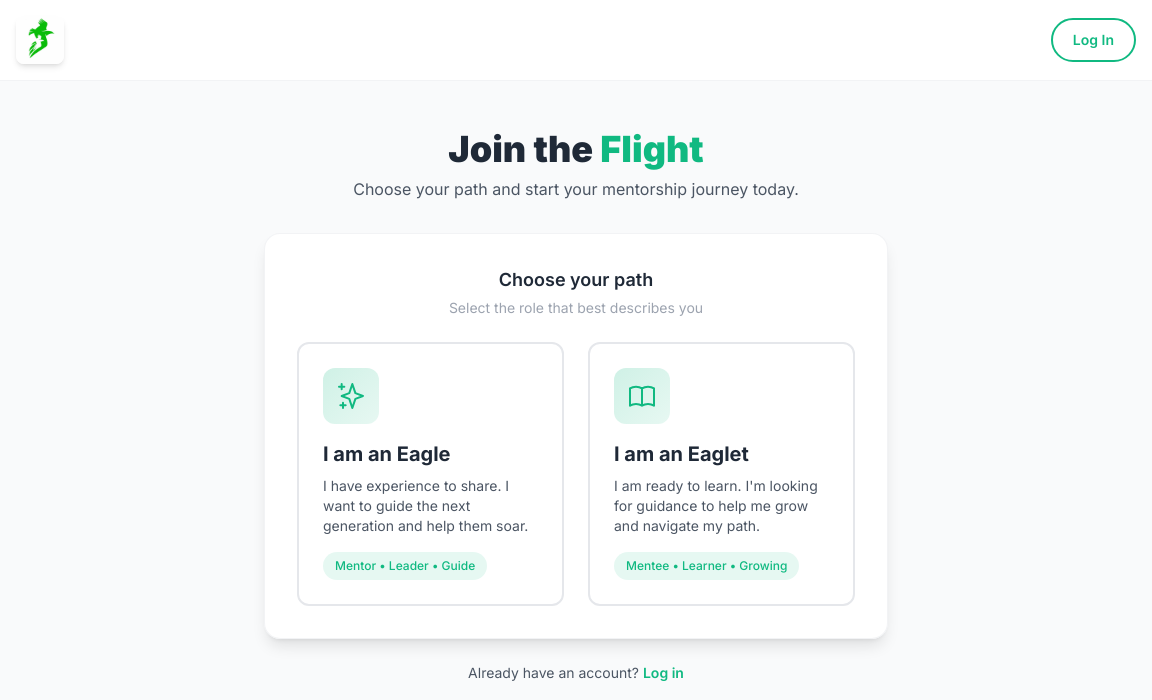
Test: RegisterPage › shows inline validation error on invalid email blur
Step 1. Click the heading "I am an Eaglet" → (681, 454), box [614,440,749,468]
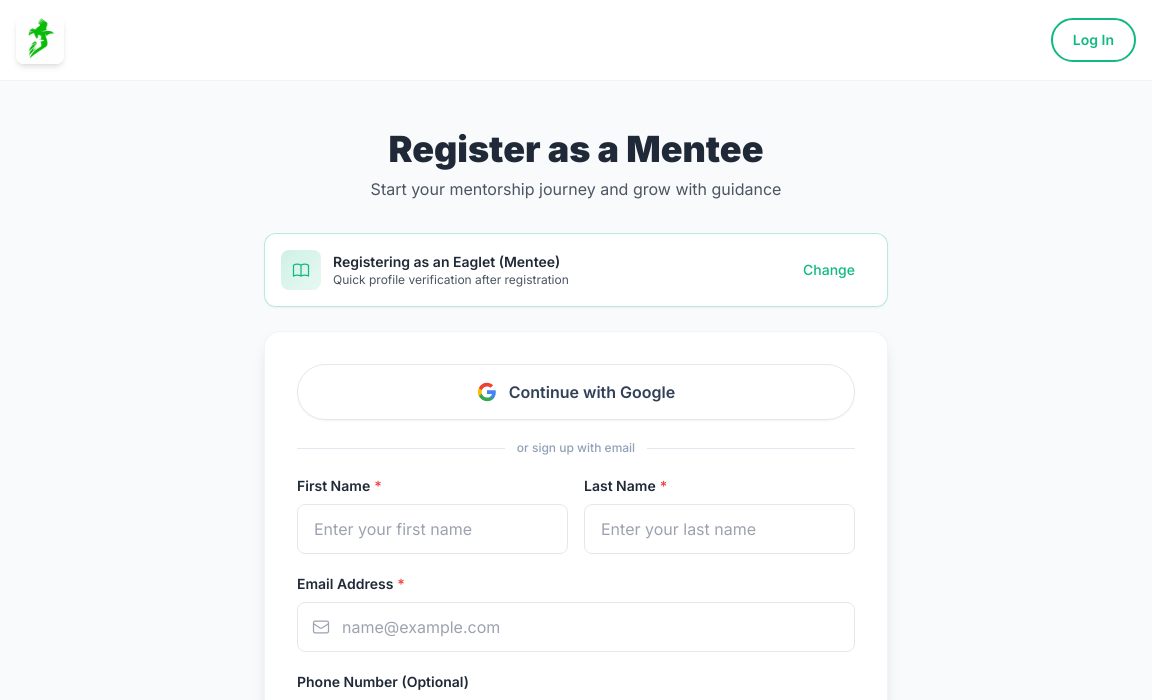
Step 2. Type "not-an-email" into the field labelled "Email Address*" → (576, 627), box [297,602,855,652]
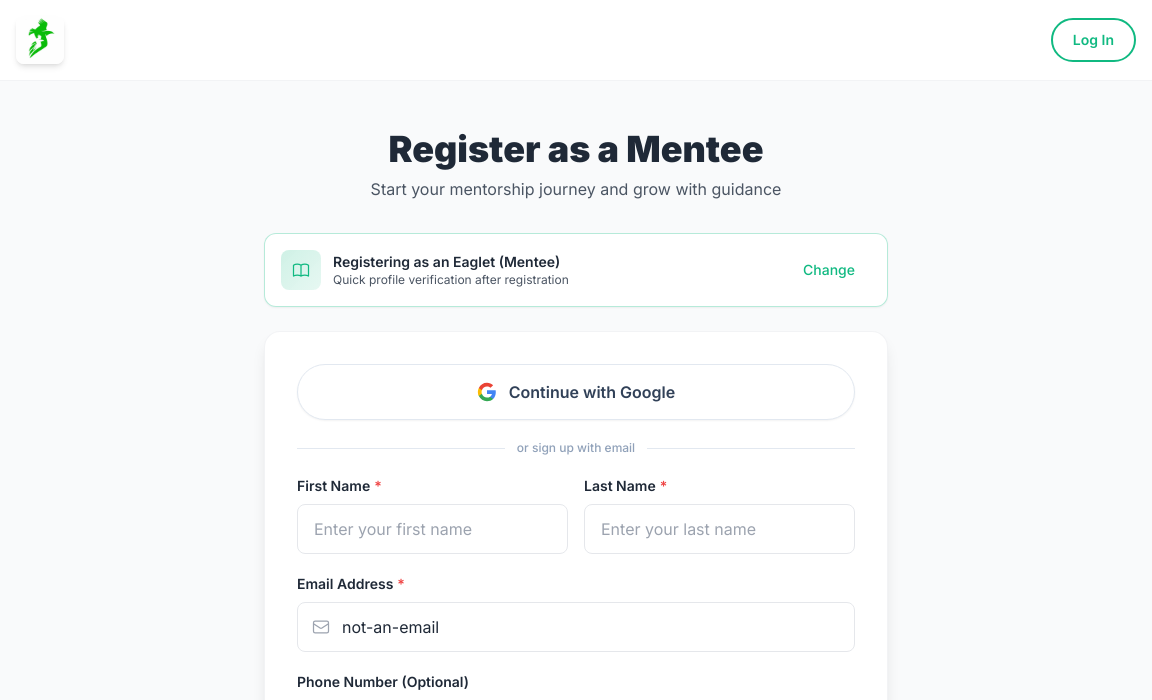
Step 3. Leave the field labelled "Email Address*", box [297,602,855,652]
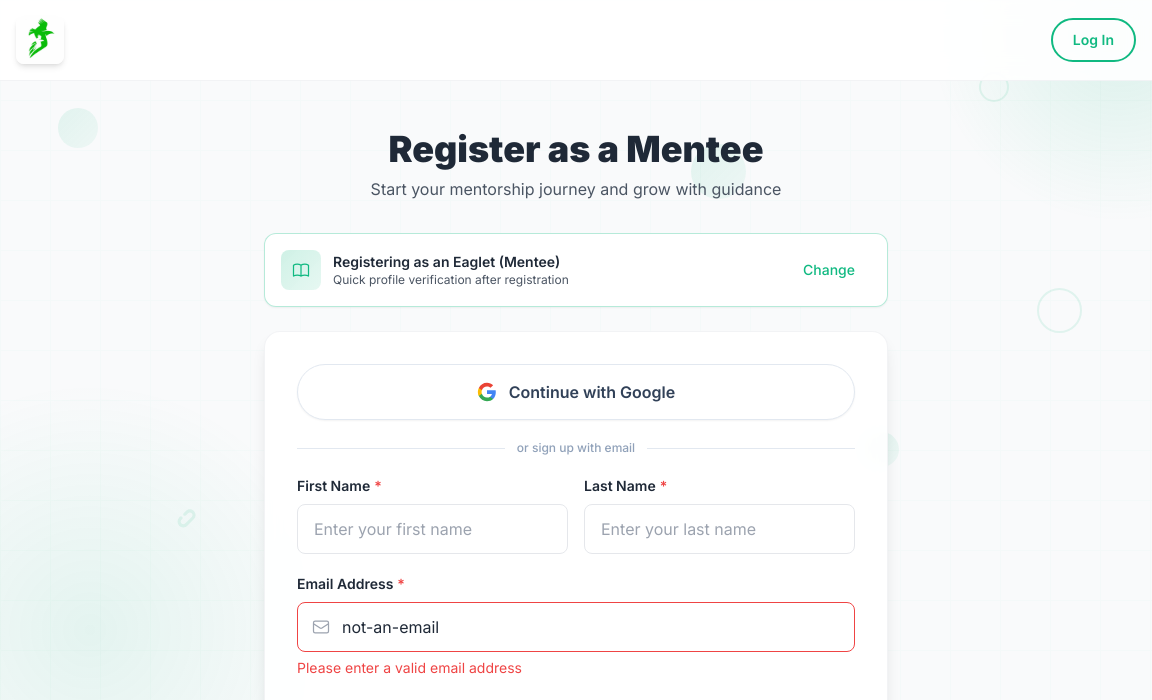
Expected: the text "Please enter a valid email address" is shown, [297,659,522,676]
